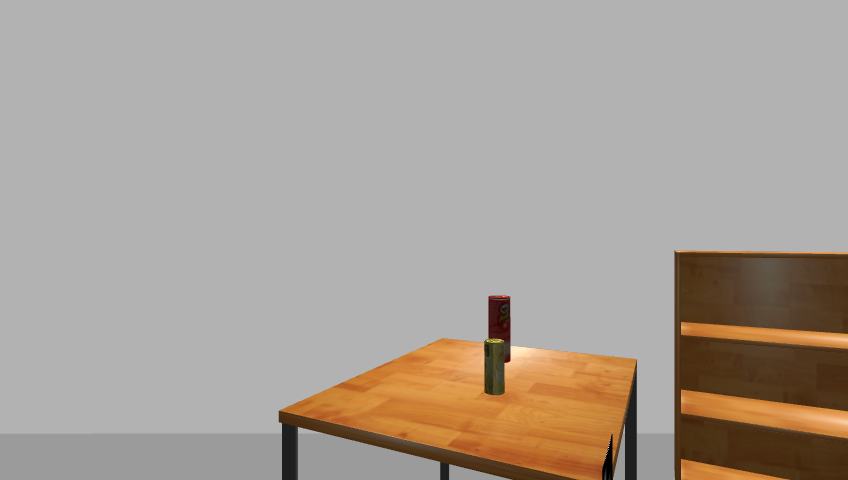aruco marker: (599, 433, 619, 480)
biscuits pack: (483, 339, 507, 396)
bookshelf: (669, 249, 848, 479)
dinner table: (272, 338, 645, 480)
pringles can: (485, 293, 512, 366)
